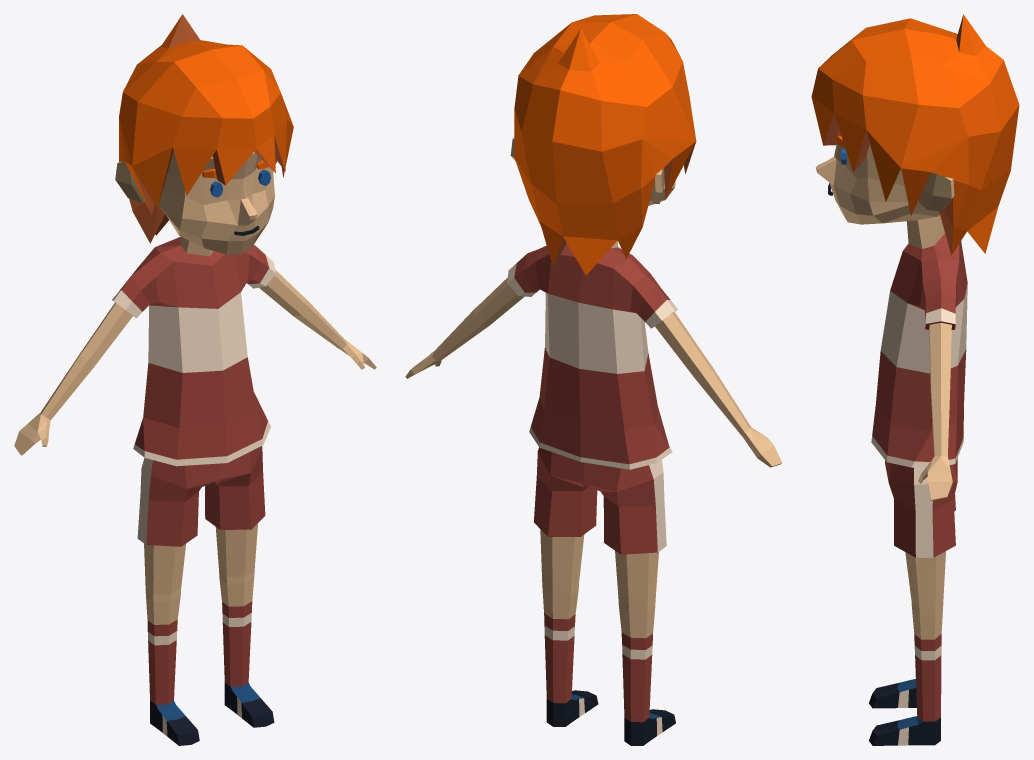
The model's file is Low_Poly_Little_Teen_Boy.glb.
3 renders of one model, left to right at view 1: azimuth 30°, elevation 25°; view 2: azimuth 150°, elevation 25°; view 3: azimuth 270°, elevation 25°, orthographic. The views are drawn at different scales.
Parts seen in each view (by area): view 1: unnamed (×3); view 2: unnamed (×3); view 3: unnamed (×3).
Boxes of the visible parts, x1,y1,x2,y2 form: unnamed (×3): (14, 14, 376, 745); unnamed (×3): (405, 14, 782, 745); unnamed (×3): (811, 14, 1019, 745).
Size of the model in its own units: 0.8573 by 1.58 by 0.4208.
Materials: 1 (1 with a texture image).
